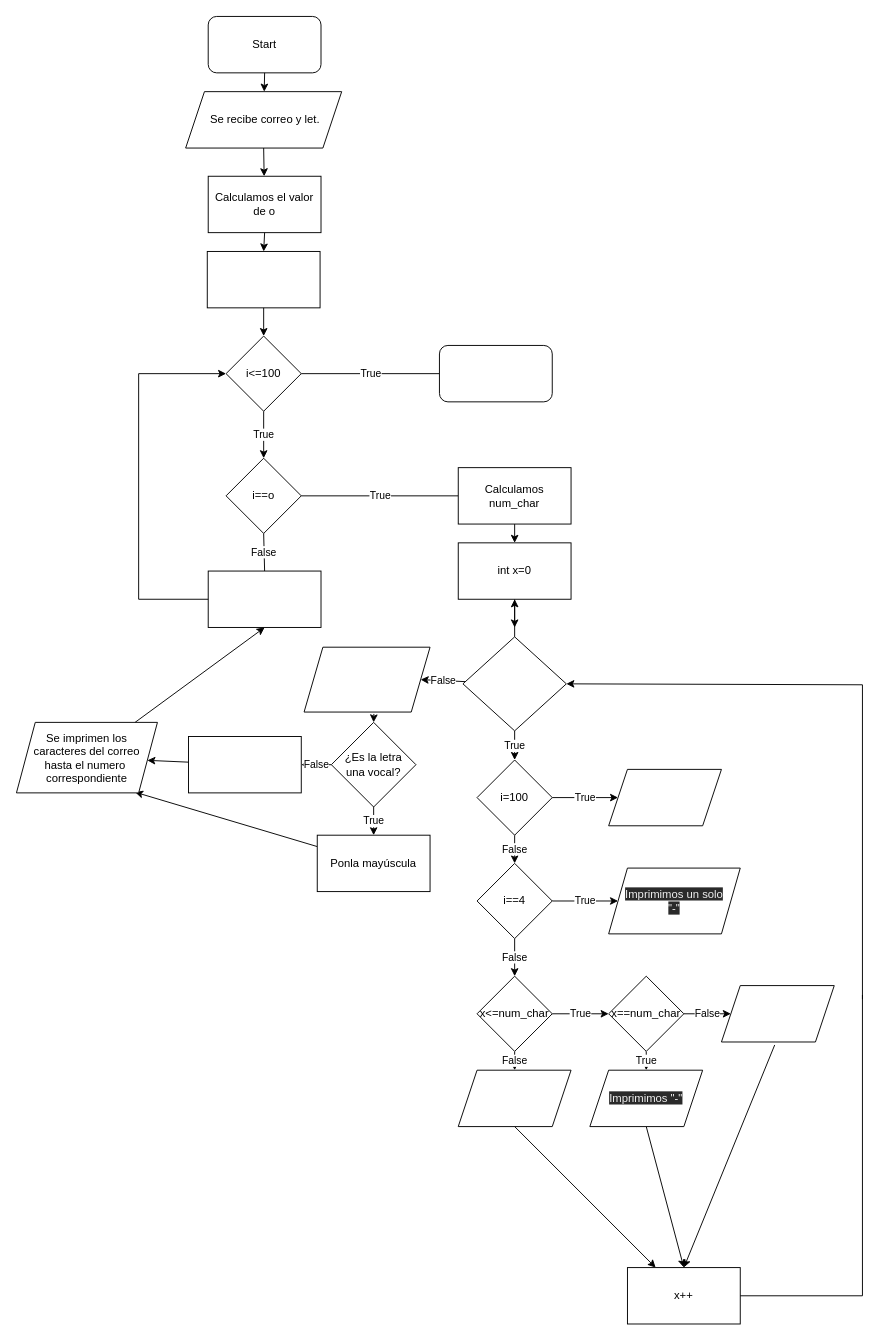
This 886x1340 diagram has some shape labels left out. The shapes that lost their labels are listed below. From the top down, each one's centre as x and y in pixels, then its label:
(263,279): int i=0
(495,373): Retorna a main
(264,598): i++
(366,679): Imprimimos el "]" el porcentaje y el numero de letras
(514,683): x<=correo.length
(244,764): Ponla minúscula
(664,797): Imprimimos solo "="
(777,1013): Imprimimos "="
(514,1098): Imprimimos " "
